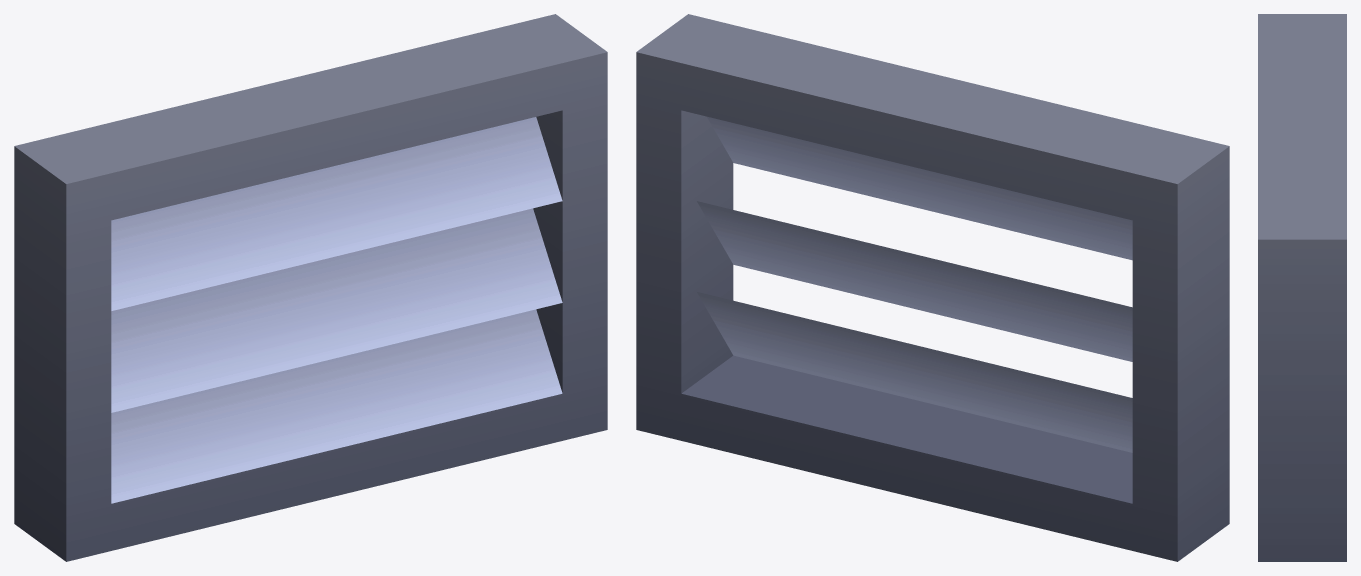
Rendered from wall-window-shutters.glb.
3 views of the same model, side by side, from view 1: azimuth 30°, elevation 25°; view 2: azimuth 150°, elevation 25°; view 3: azimuth 270°, elevation 25° (orthographic). The views are drawn at different scales.
Parts seen in each view (by area): view 1: wall-window-shutters; view 2: wall-window-shutters; view 3: wall-window-shutters.
Part boxes in pixels (bbox=[...]): wall-window-shutters: bbox=[14, 14, 607, 561]; wall-window-shutters: bbox=[636, 14, 1229, 561]; wall-window-shutters: bbox=[1258, 14, 1346, 561].
Size of the model in its own units: 0.6 by 0.4 by 0.1.
Materials: 1 (1 with a texture image).
